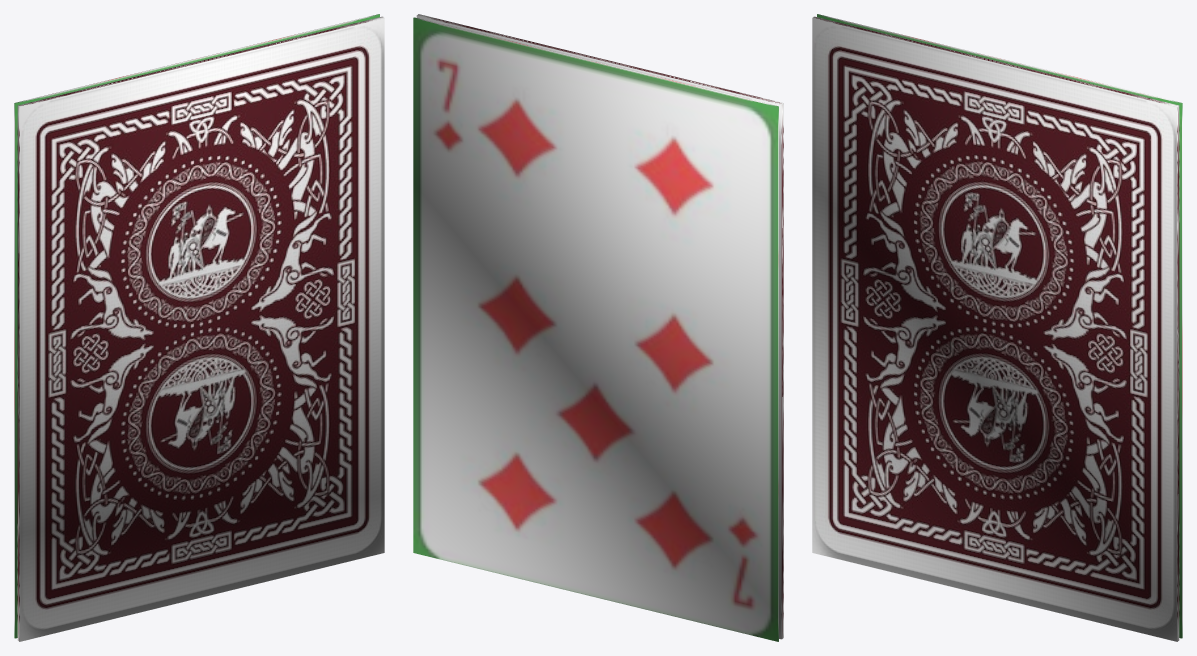
The model's file is Card_Template.obj.
3 views of the same model, side by side, from view 1: azimuth 30°, elevation 25°; view 2: azimuth 150°, elevation 25°; view 3: azimuth 330°, elevation 25° (orthographic).
Visible parts, largest first — view 1: Card_Back, Card_Face; view 2: Card_Face, Card_Back; view 3: Card_Back, Card_Face.
Boxes of the visible parts, x1,y1,x2,y2 form: Card_Back: [17, 16, 384, 641]; Card_Face: [14, 14, 379, 638]; Card_Face: [413, 17, 778, 641]; Card_Back: [416, 14, 783, 639]; Card_Back: [812, 16, 1179, 641]; Card_Face: [817, 14, 1182, 638].
Size of the model in its own units: 25 by 35 by 0.65.
